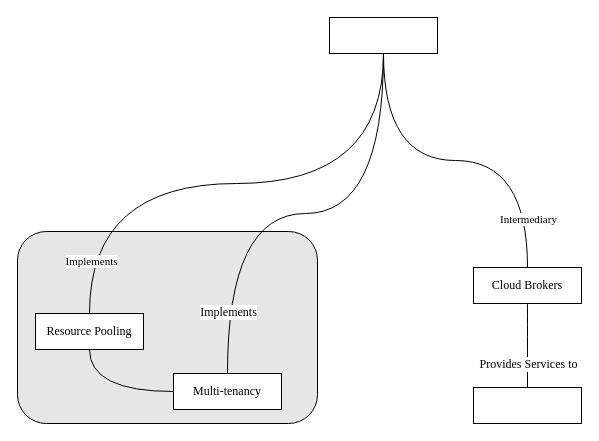
The diagram is 599 pixels wide and 441 high, and some of its shapes have lost their labels. The shapes that lost their labels are listed below. From the top down, each one's centre as x and y in pixels, then its label:
At (383,35): "Cloud Service Providers".
At (527,405): "Latency-Sensitive Applications".
